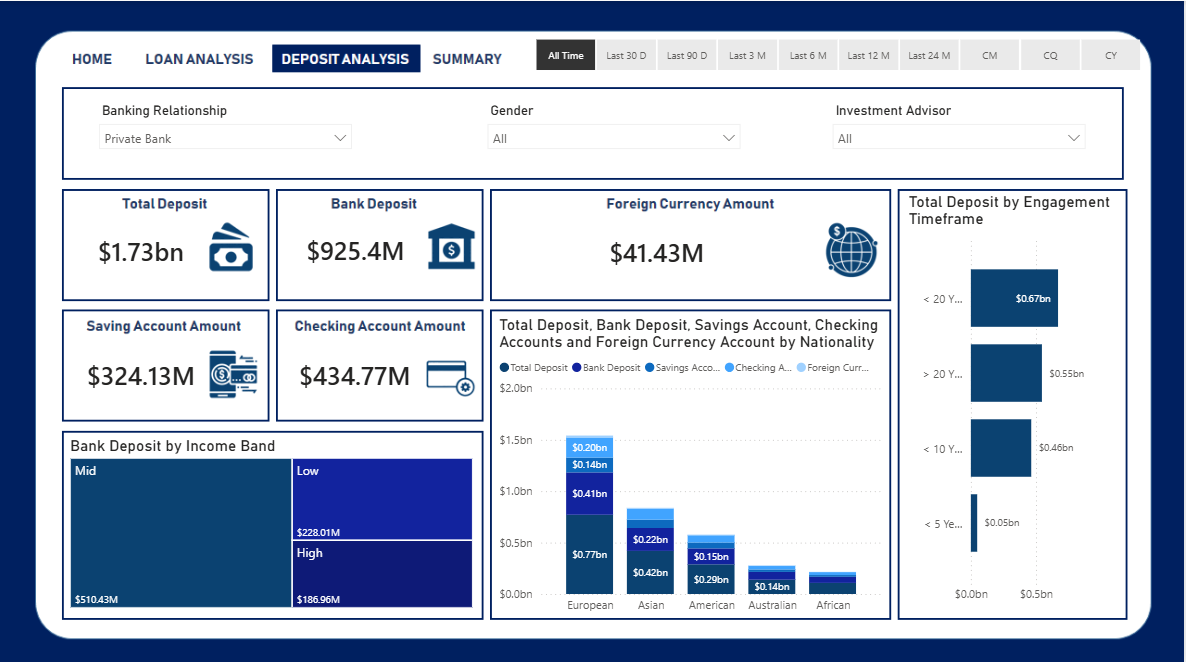

The dashboard page shown, as its layout file describes it:
{"tool":"powerbi","page":{"name":"Deposit Analysis","canvas":[1280,720],"ordinal":2},"visuals":[{"type":"card","fields":{"Values":["DAX Measures.Total Deposit"]},"box":[72.7,226.3,161.8,90.3],"z":0},{"type":"card","fields":{"Values":["DAX Measures.Bank Deposit"]},"box":[299,226.3,172.4,89.1],"z":1000},{"type":"card","fields":{"Values":["DAX Measures.Savings Account"]},"box":[72.7,360,161.8,89.1],"z":2000},{"type":"card","fields":{"Values":["DAX Measures.Checking Accounts"]},"box":[300.2,360,171.2,89.1],"z":3000},{"type":"slicer","fields":{"Values":["Banking Relationship.Banking Relationship"]},"box":[98.5,105.2,292.9,75.7],"z":4000},{"type":"slicer","fields":{"Values":["Gender.Gender"]},"box":[518.9,105.2,292.9,75.7],"z":5000},{"type":"slicer","fields":{"Values":["Investment Advisor.Investment Advisor"]},"box":[891.3,105.2,292.9,75.7],"z":6000},{"type":"card","fields":{"Values":["DAX Measures.Foreign Currency Account"]},"box":[537.1,227.5,349.4,89.1],"z":7000},{"type":"treemap","fields":{"Group":["Clients - Banking.Income Band"],"Values":["DAX Measures.Bank Deposit"]},"box":[72.7,470.2,444.4,190],"z":8000},{"type":"columnChart","fields":{"Category":["Clients - Banking.Nationality"],"Y":["DAX Measures.Total Deposit","DAX Measures.Bank Deposit","DAX Measures.Savings Account","DAX Measures.Checking Accounts","DAX Measures.Foreign Currency Account"]},"box":[537.1,338.9,423.3,331.9],"z":9000},{"type":"clusteredBarChart","fields":{"Category":["Clients - Banking.Engagement Timeframe"],"Y":["DAX Measures.Total Deposit"]},"box":[978,207.6,234.5,452.6],"z":10000},{"type":"slicer","fields":{"Values":["Period.Name"]},"box":[555.2,34.6,702.1,46.6],"z":11000},{"type":"actionButton","box":[72.8,44.2,58.5,31],"z":12000},{"type":"actionButton","box":[160,44.2,119.4,31],"z":13000},{"type":"actionButton","box":[471.6,44.2,83.6,31],"z":14000}]}

Visuals, with their boxes in screenshot pixels (x1, y1, x2, y2), scaled from the page's 1280x720 canvas onto the 1186x662 screenshot:
card - DAX Measures.Total Deposit: <bbox>67, 208, 217, 291</bbox>
card - DAX Measures.Bank Deposit: <bbox>277, 208, 437, 290</bbox>
card - DAX Measures.Savings Account: <bbox>67, 331, 217, 413</bbox>
card - DAX Measures.Checking Accounts: <bbox>278, 331, 437, 413</bbox>
slicer - Banking Relationship.Banking Relationship: <bbox>91, 97, 363, 166</bbox>
slicer - Gender.Gender: <bbox>481, 97, 752, 166</bbox>
slicer - Investment Advisor.Investment Advisor: <bbox>826, 97, 1097, 166</bbox>
card - DAX Measures.Foreign Currency Account: <bbox>498, 209, 821, 291</bbox>
treemap - Clients - Banking.Income Band x DAX Measures.Bank Deposit: <bbox>67, 432, 479, 607</bbox>
columnChart - Clients - Banking.Nationality x DAX Measures.Total Deposit: <bbox>498, 312, 890, 617</bbox>
clusteredBarChart - Clients - Banking.Engagement Timeframe x DAX Measures.Total Deposit: <bbox>906, 191, 1123, 607</bbox>
slicer - Period.Name: <bbox>514, 32, 1165, 75</bbox>
actionButton: <bbox>67, 41, 122, 69</bbox>
actionButton: <bbox>148, 41, 259, 69</bbox>
actionButton: <bbox>437, 41, 514, 69</bbox>
